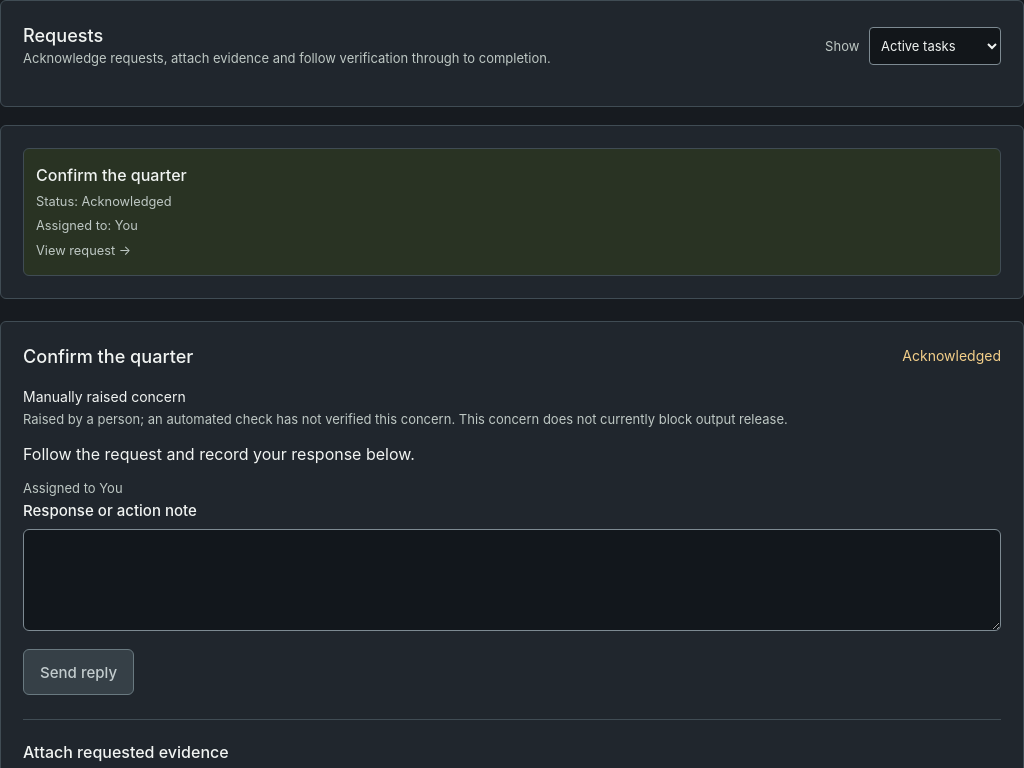
Test: sends a reply without changing status and offers clear evidence controls
Type "The quarter is awaiting confirmation." into the text box labelled "Response or action note". click: [512, 580]
box: [23,530,1001,632]
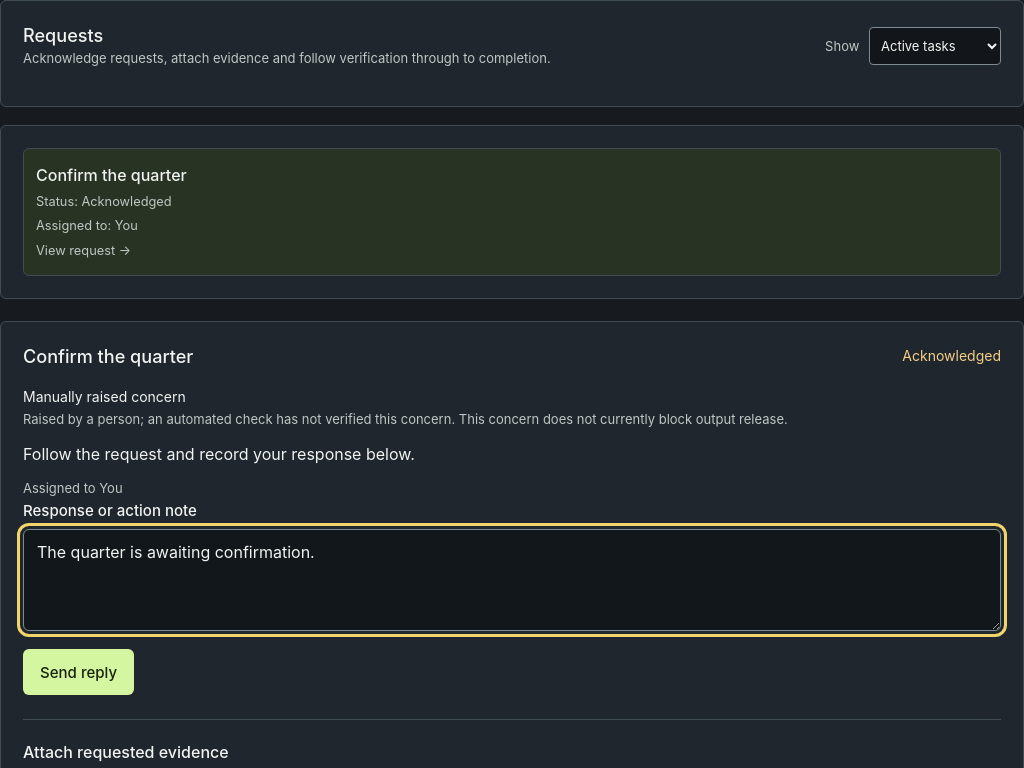
Click the button "Send reply". click: [79, 672]
box: [23,650,134,696]
(page scrolled)
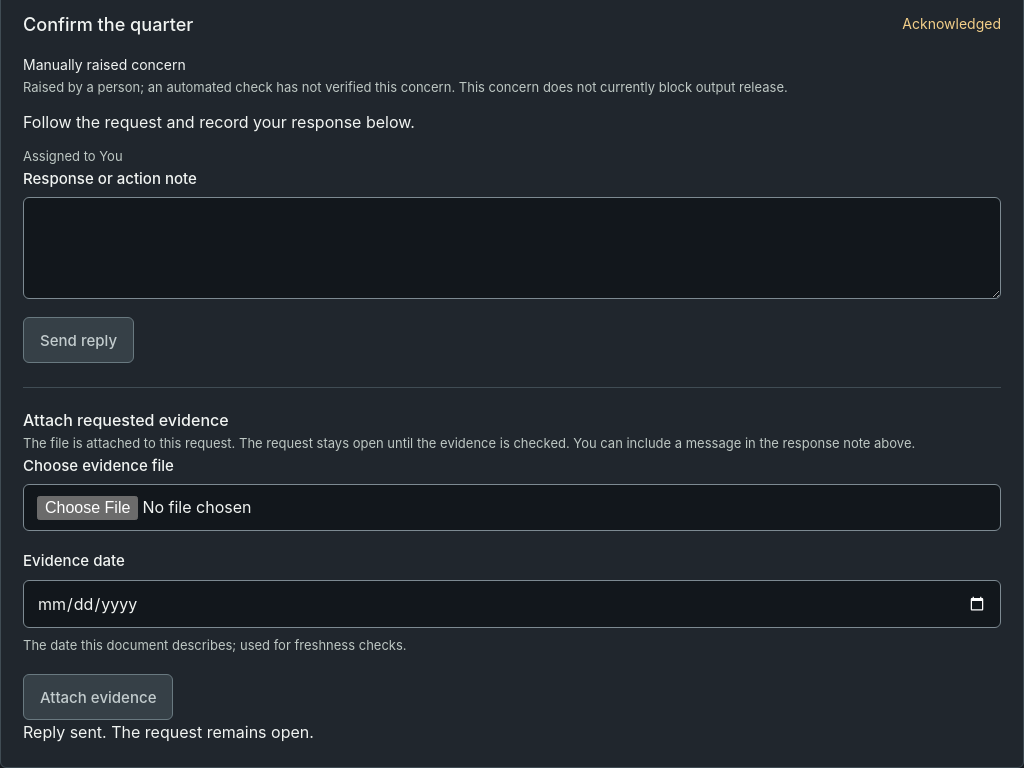
Expected: the file field labelled "Choose evidence file" is shown, [23,484,1001,531]
Expected: the text "Reply sent. The request remains open." is shown, [23,722,314,742]
